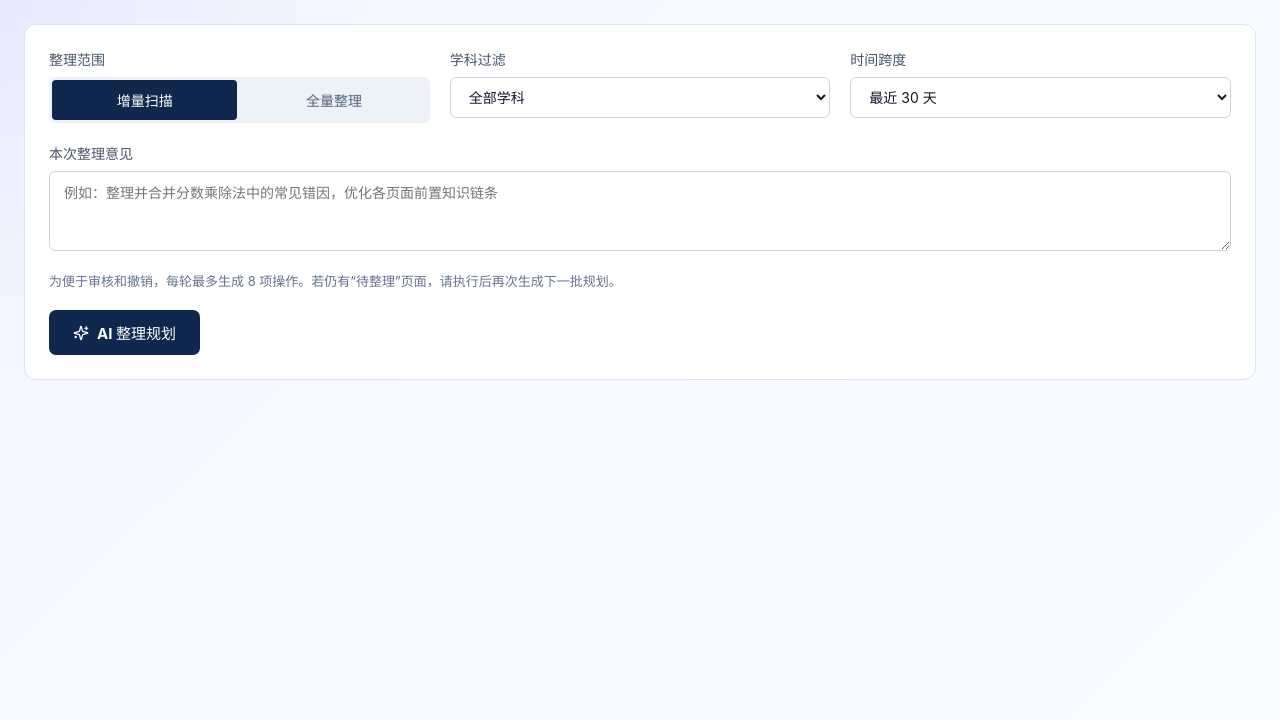
OrganizerView › submits the current-run instruction and shows planning results
# Enter instruction
Type "Merge algebra points" into the text box labelled "本次整理意见" at (640, 211), box left=49, top=171, right=1231, bottom=251
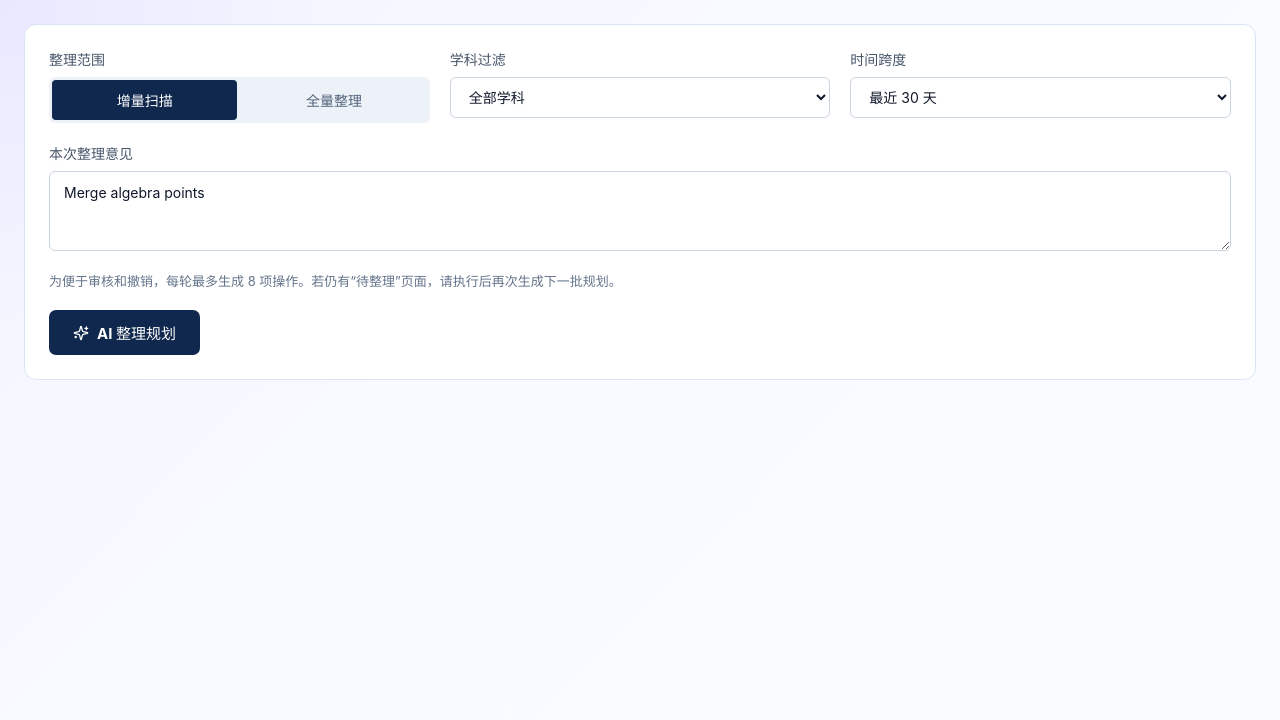
# Click Plan button
Click the button "AI 整理规划" at (124, 332), box left=49, top=310, right=200, bottom=355
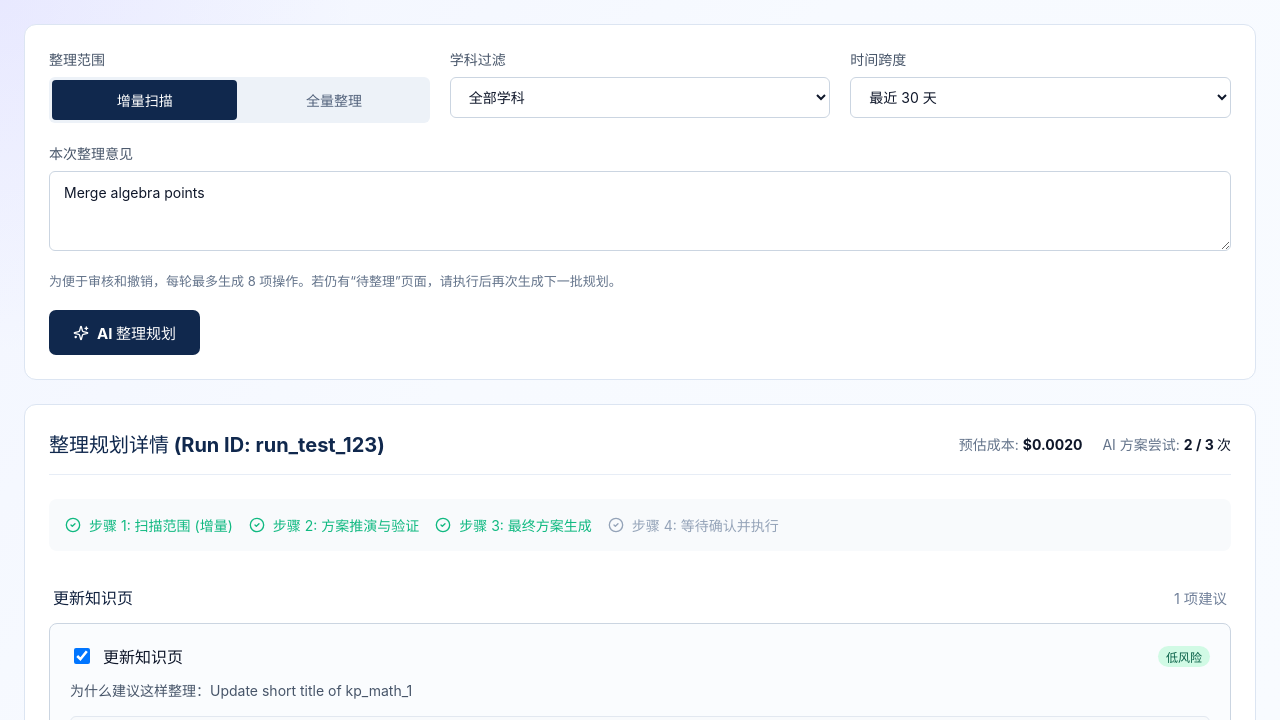
Expected: the heading "整理规划详情 (Run ID: run_test_123)" is shown, left=49, top=429, right=385, bottom=458
Expected: the text "更新知识页" is shown 2 times, left=53, top=585, right=133, bottom=609; left=103, top=644, right=183, bottom=668
Expected: the text "为什么建议这样整理：Update short title of kp_math_1" is shown, left=70, top=682, right=412, bottom=699
